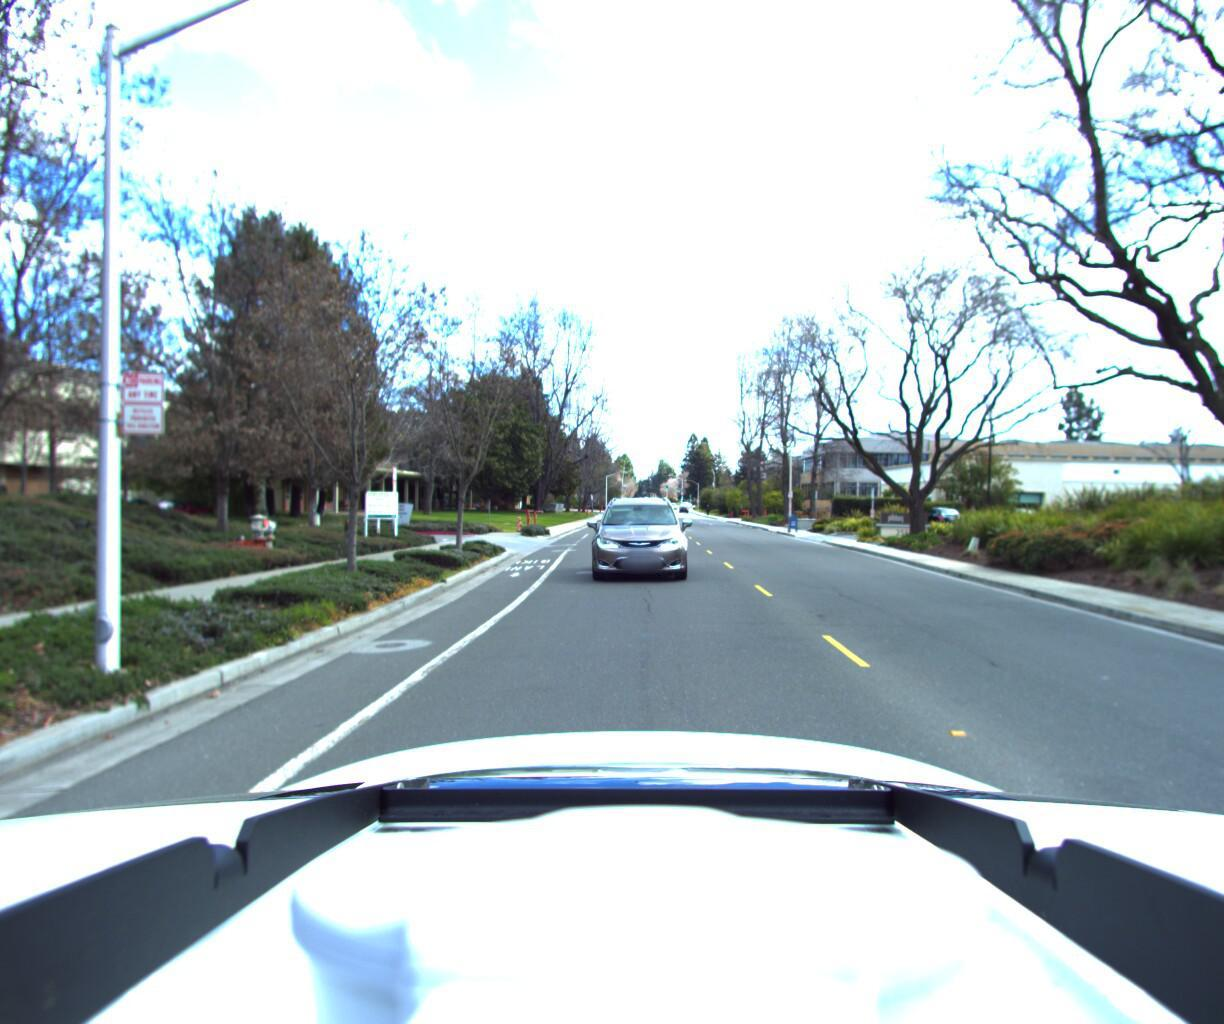car: (580, 496, 686, 593), (909, 511, 960, 537)
